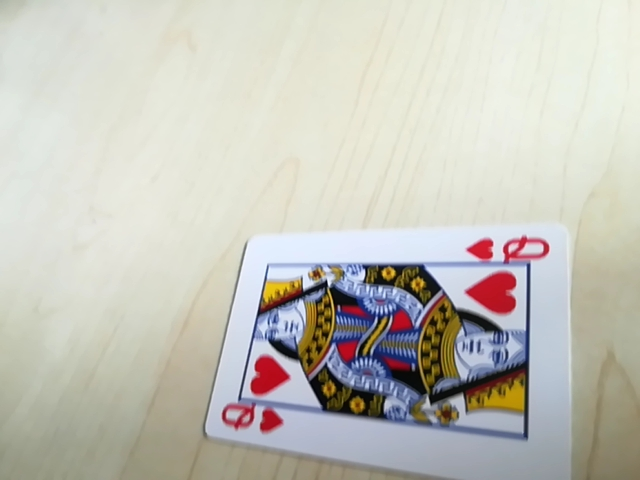hx q: (465, 228, 551, 267), (218, 400, 285, 440)
